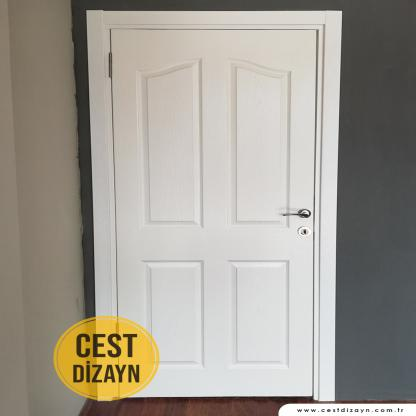door: (110, 28, 313, 395)
